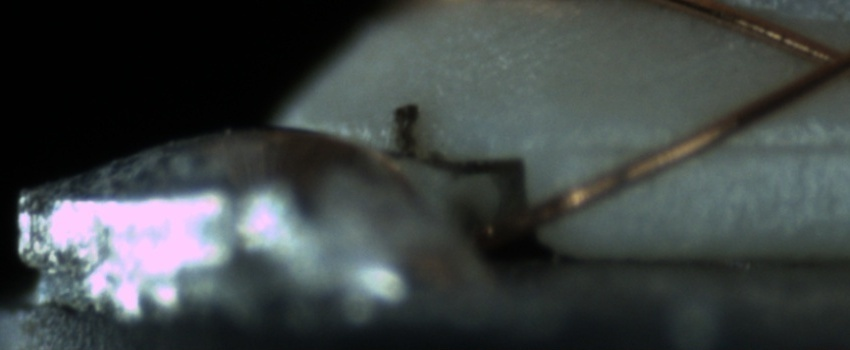CL: (775, 20, 849, 96)
DL: (566, 115, 848, 179)
